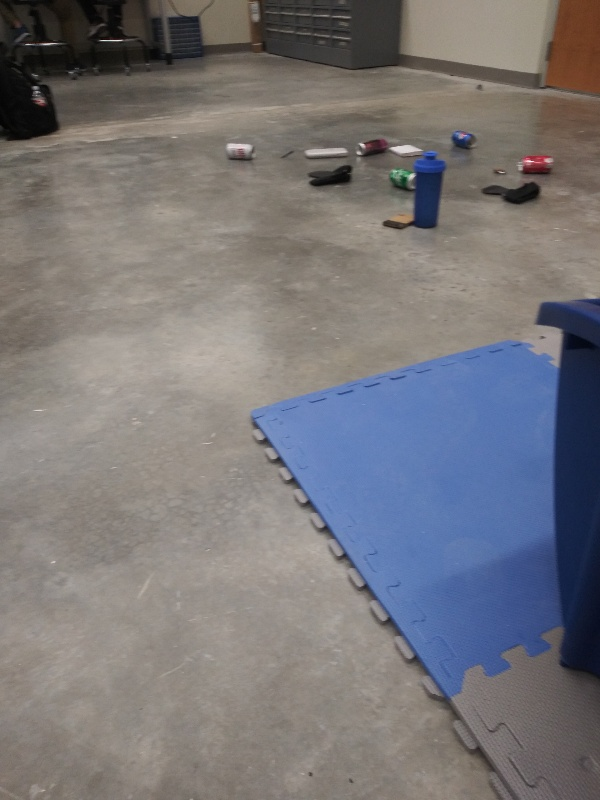can: (515, 153, 557, 175), (387, 166, 420, 192), (352, 137, 391, 158), (222, 140, 258, 161), (449, 127, 479, 152)
